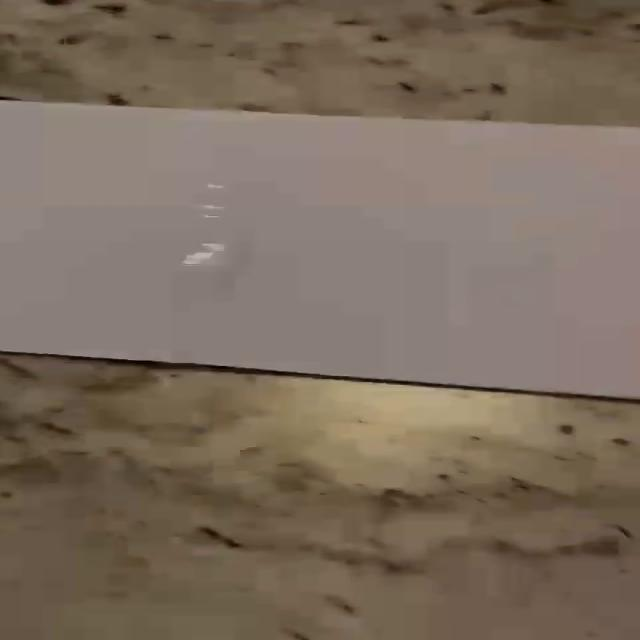road: (1, 100, 637, 398)
